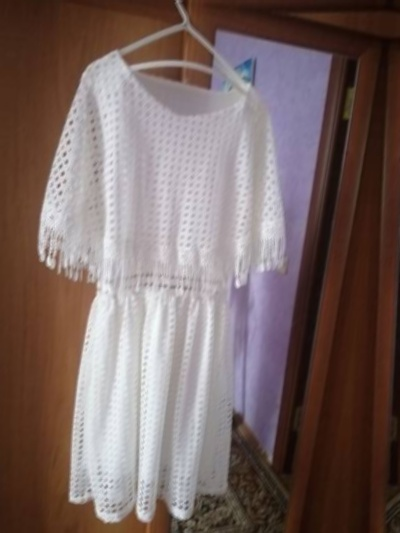Dress: (10, 27, 305, 533)
